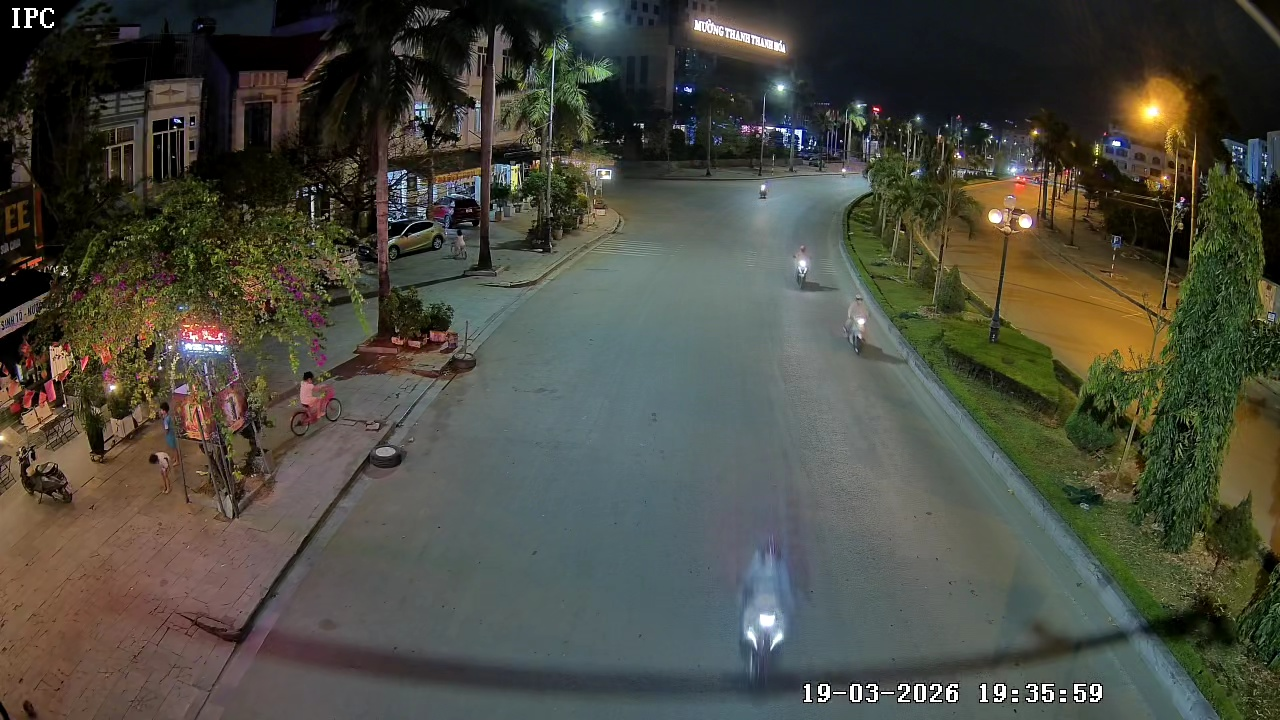motorbike: (16, 441, 76, 506), (842, 294, 872, 355), (790, 244, 816, 290)
